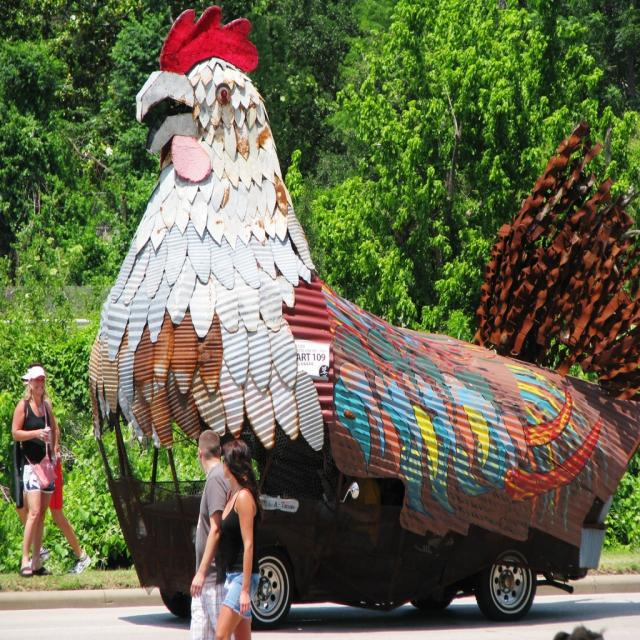Chicken: (78, 2, 640, 536)
